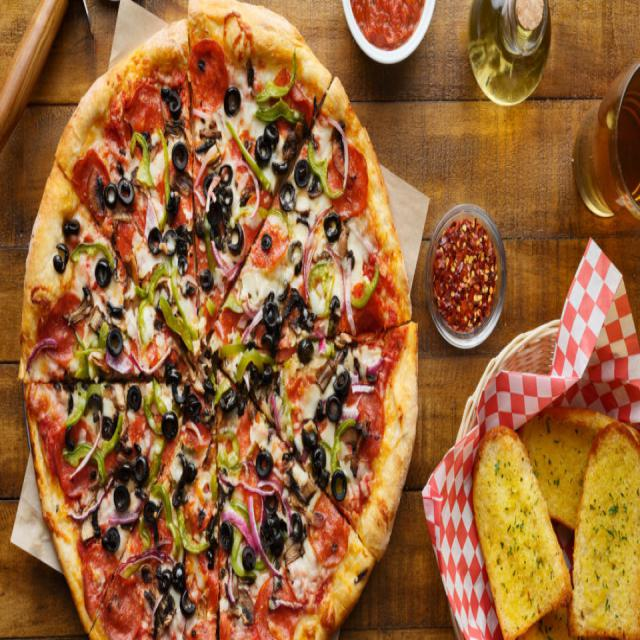pizza: (20, 2, 417, 639)
